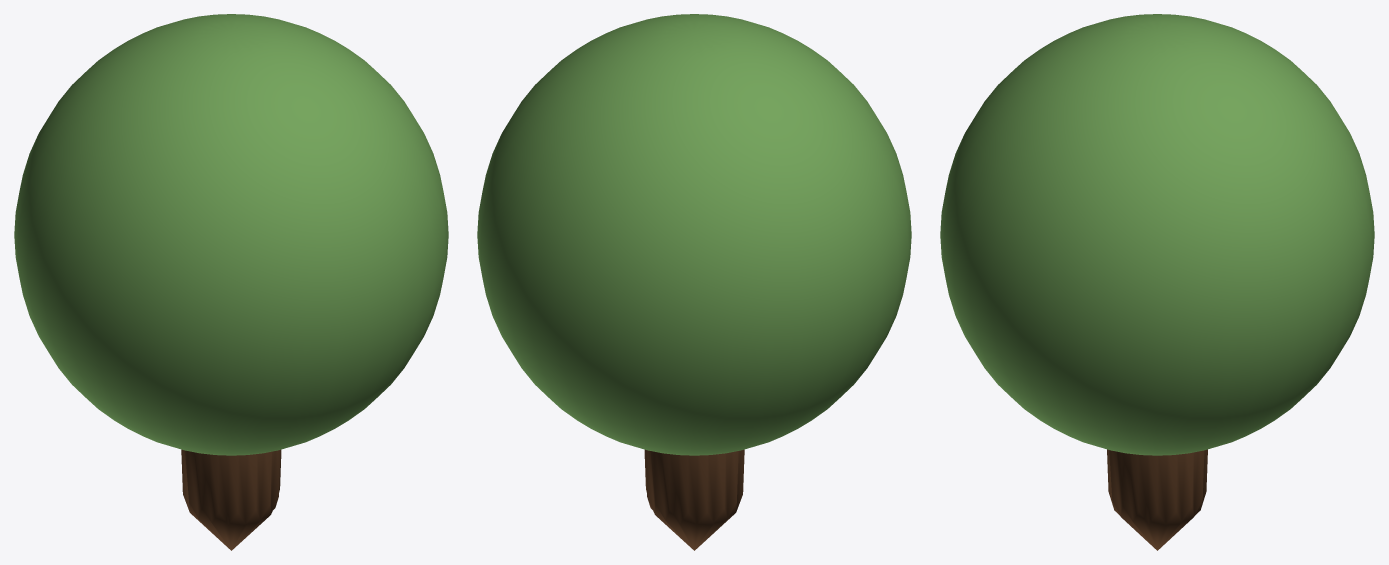
The model's file is ch1_s1_bank.glb.
3 views of the same model, side by side, from view 1: azimuth 30°, elevation 25°; view 2: azimuth 150°, elevation 25°; view 3: azimuth 270°, elevation 25° (orthographic).
Parts seen in each view (by area): view 1: S1_Oak_Tree_Canopy, S1_Oak_Tree_Trunk; view 2: S1_Oak_Tree_Canopy, S1_Oak_Tree_Trunk; view 3: S1_Oak_Tree_Canopy, S1_Oak_Tree_Trunk.
Boxes of the visible parts, left/top/right/bottom form: S1_Oak_Tree_Canopy: left=14, top=14, right=448, bottom=455; S1_Oak_Tree_Trunk: left=181, top=449, right=281, bottom=550; S1_Oak_Tree_Canopy: left=477, top=14, right=911, bottom=455; S1_Oak_Tree_Trunk: left=644, top=449, right=744, bottom=550; S1_Oak_Tree_Canopy: left=940, top=14, right=1374, bottom=455; S1_Oak_Tree_Trunk: left=1107, top=449, right=1207, bottom=550.
Size of what is drawn, in the model's own units: 5.44 by 7.16 by 5.44.
